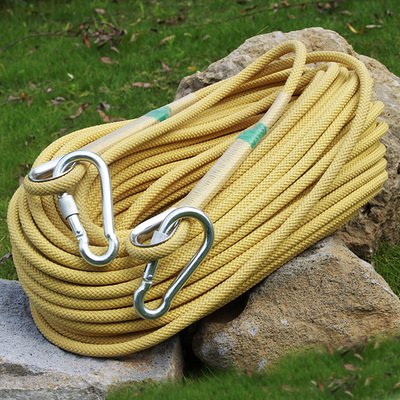9/可回收垃圾/绳子: (5, 39, 390, 359)
